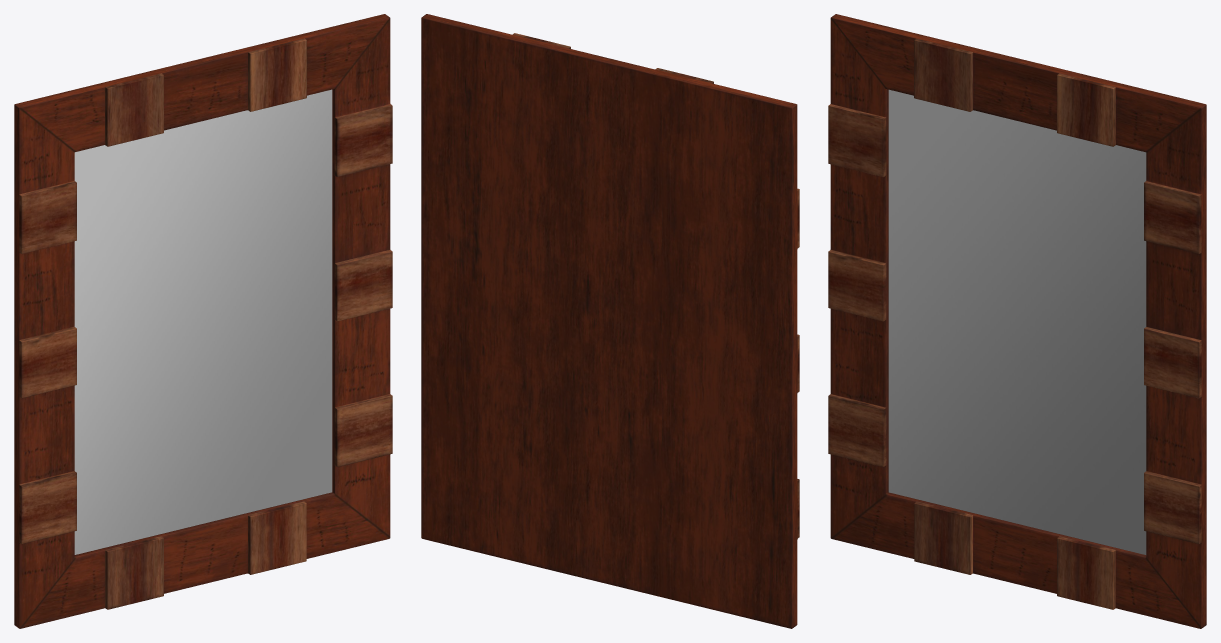
Rendered from mirror_B073WHXXM9.glb.
3 views of the same model, side by side, from view 1: azimuth 30°, elevation 25°; view 2: azimuth 150°, elevation 25°; view 3: azimuth 330°, elevation 25° (orthographic).
Visible parts, largest first — view 1: RootNode; view 2: RootNode; view 3: RootNode.
Boxes of the visible parts, x1=… form: RootNode: x1=14, y1=14, x2=392, y2=628; RootNode: x1=421, y1=14, x2=799, y2=628; RootNode: x1=828, y1=14, x2=1206, y2=628.
Bounding box in the file's own units: 0.6002 × 0.8052 × 0.0214.
1 material, 1 textured.
